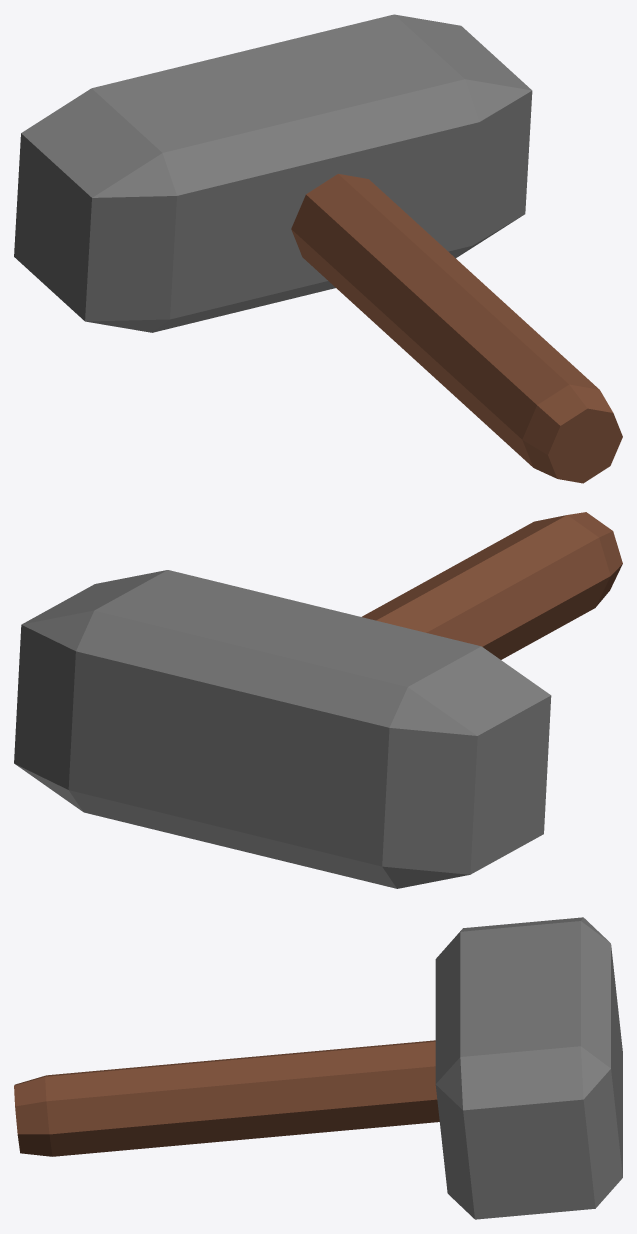
File: Hammer.fbx
The picture shows the model from 3 angles, top to bottom: view 1: azimuth 30°, elevation 25°; view 2: azimuth 150°, elevation 25°; view 3: azimuth 270°, elevation 25°; orthographic projection. The views are drawn at different scales.
Parts seen in each view (by area): view 1: Hammer; view 2: Hammer; view 3: Hammer.
Part boxes in pixels (x1=…): Hammer: x1=14, y1=14, x2=622, y2=483; Hammer: x1=14, y1=512, x2=622, y2=888; Hammer: x1=14, y1=917, x2=622, y2=1219.
Bounding box in the file's own units: 0.1456 × 0.0632 × 0.2055.
Materials: 1 (1 with a texture image).
